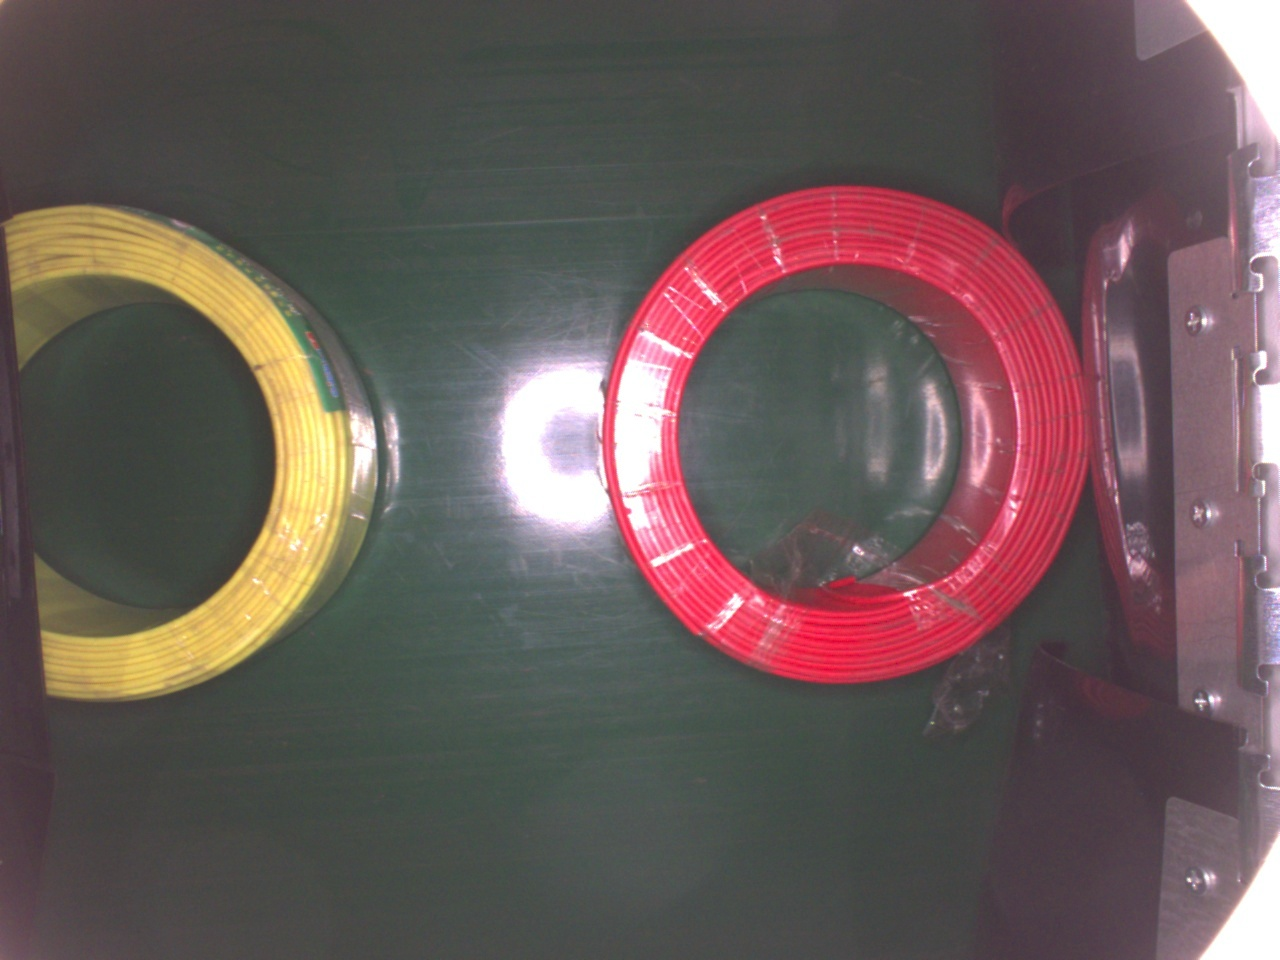red: (603, 181, 1089, 686)
yellow: (3, 194, 378, 705)
